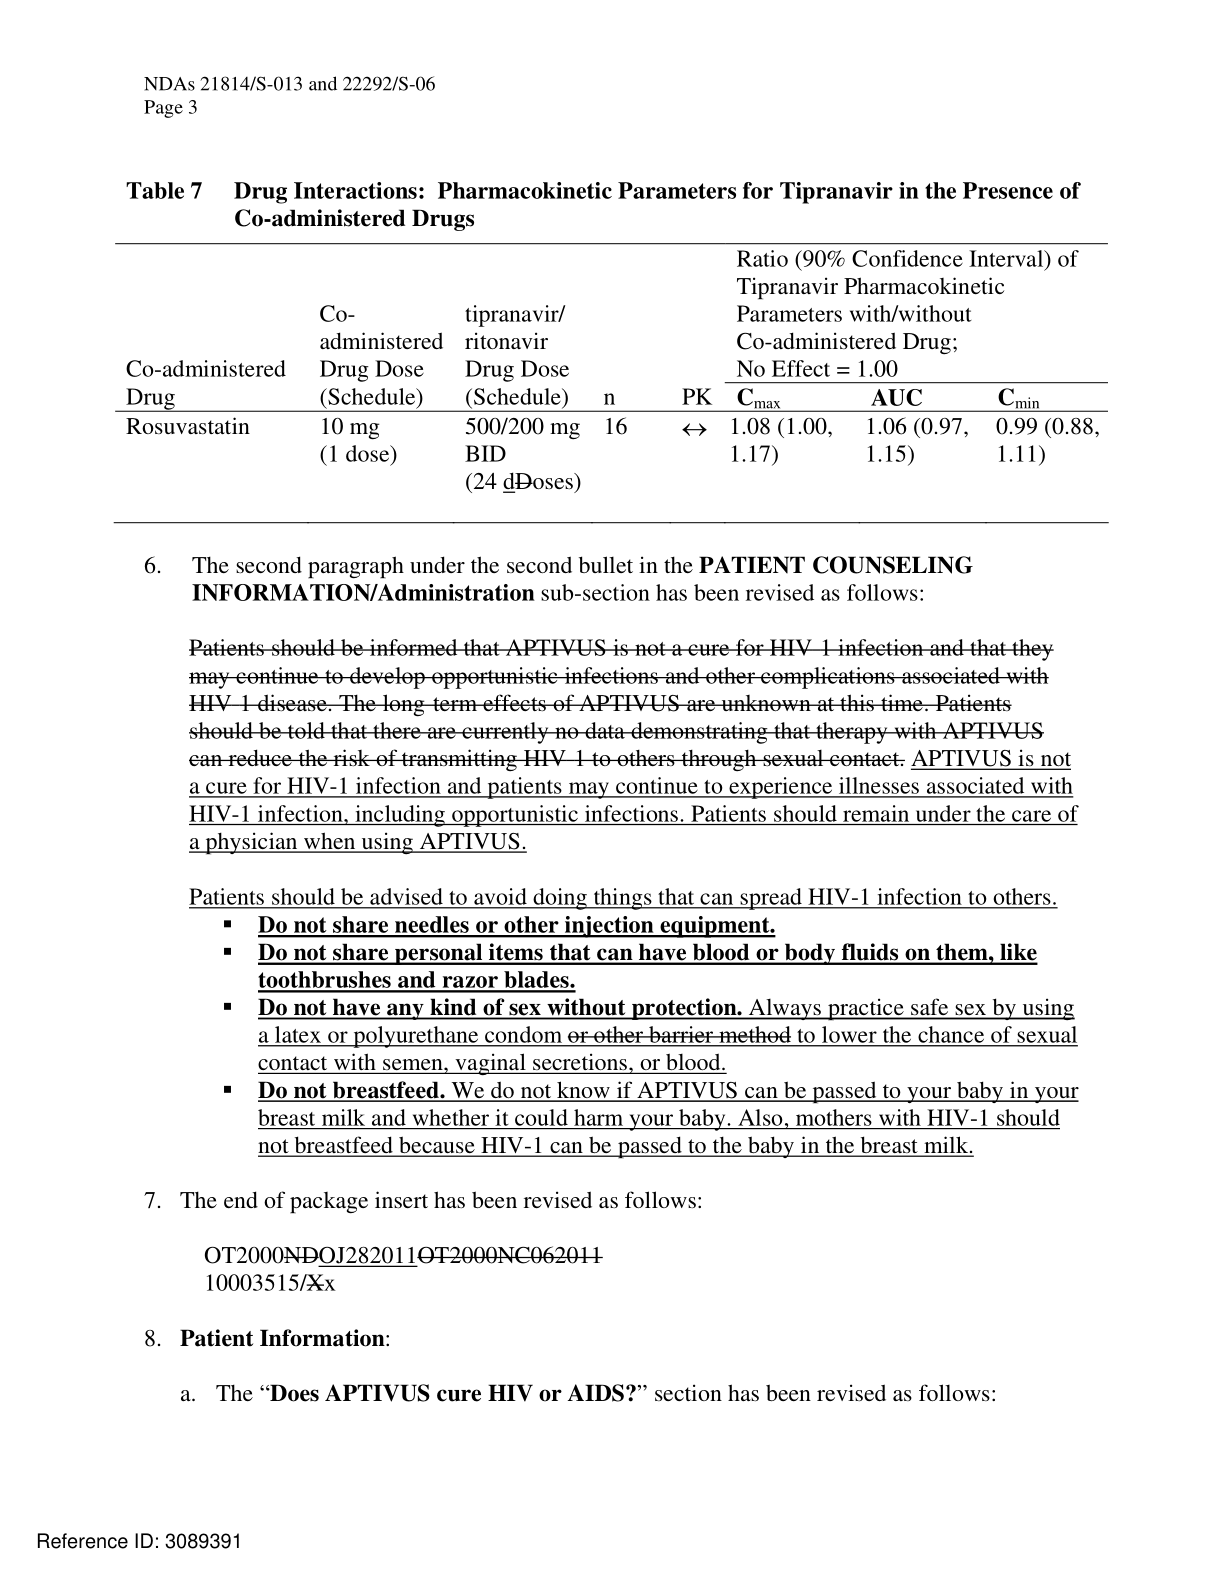partial_lined_merged_cells: (113, 240, 1110, 525)
